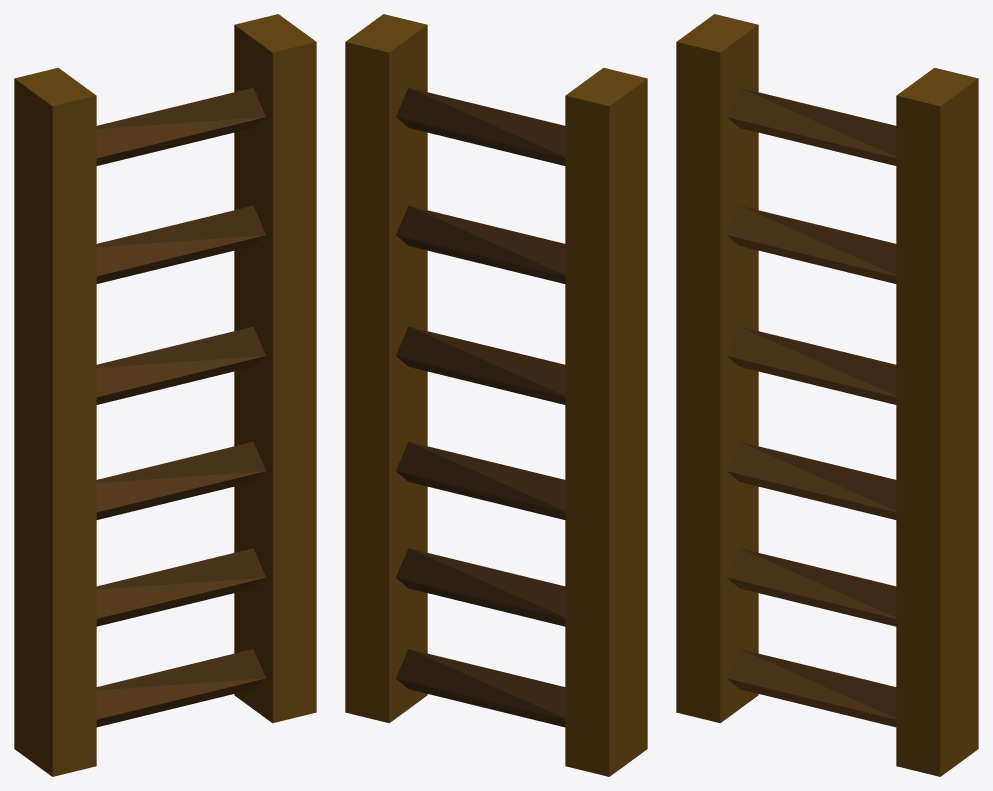
The model's file is ladder.obj.
3 renders of one model, left to right at view 1: azimuth 30°, elevation 25°; view 2: azimuth 150°, elevation 25°; view 3: azimuth 330°, elevation 25°, orthographic.
Parts seen in each view (by area): view 1: Object_Ladder_2026-09-13_16-36-42; view 2: Object_Ladder_2026-09-13_16-36-42; view 3: Object_Ladder_2026-09-13_16-36-42.
Part boxes in pixels (bbox=[...]): Object_Ladder_2026-09-13_16-36-42: bbox=[14, 14, 316, 776]; Object_Ladder_2026-09-13_16-36-42: bbox=[345, 14, 647, 776]; Object_Ladder_2026-09-13_16-36-42: bbox=[676, 14, 978, 776].
Size of the model in its own units: 96 by 233 by 24.
